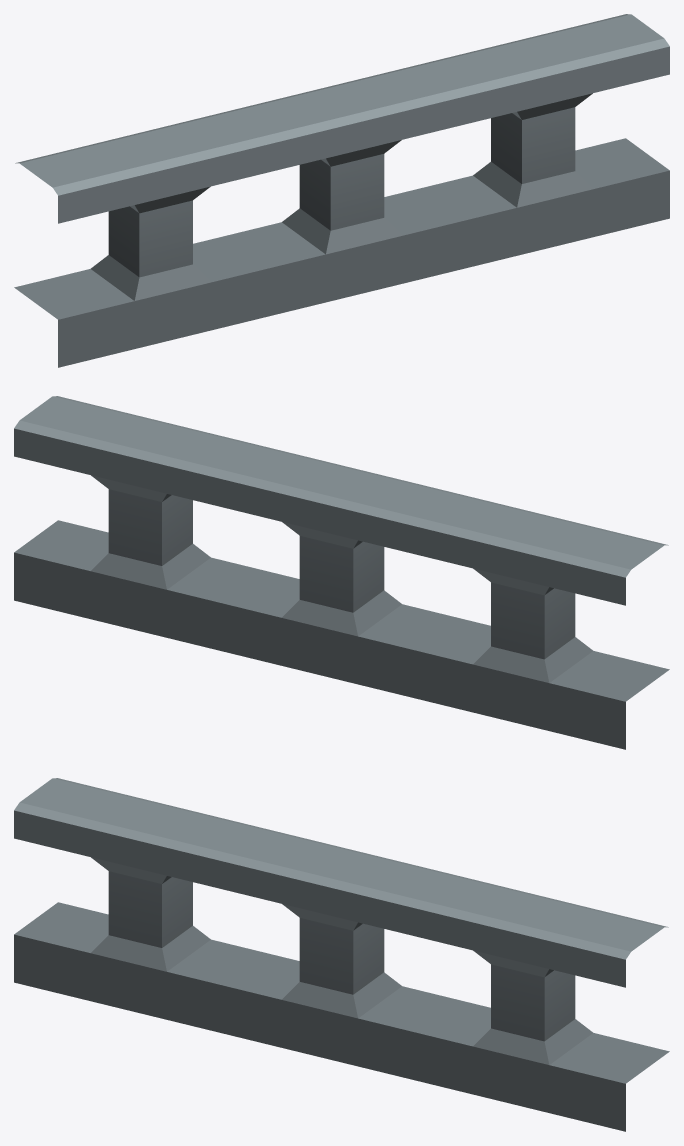
The model's file is barrier.gltf.
3 views of the same model, one above another, from view 1: azimuth 30°, elevation 25°; view 2: azimuth 150°, elevation 25°; view 3: azimuth 330°, elevation 25° (orthographic).
Visible parts, largest first — view 1: barrier; view 2: barrier; view 3: barrier.
Boxes of the visible parts, x1=… form: barrier: x1=14, y1=14, x2=669, y2=367; barrier: x1=14, y1=396, x2=669, y2=749; barrier: x1=14, y1=778, x2=669, y2=1131.
Size of the model in its own units: 4 by 1.1 by 0.5.
Materials: 1 (1 with a texture image).
